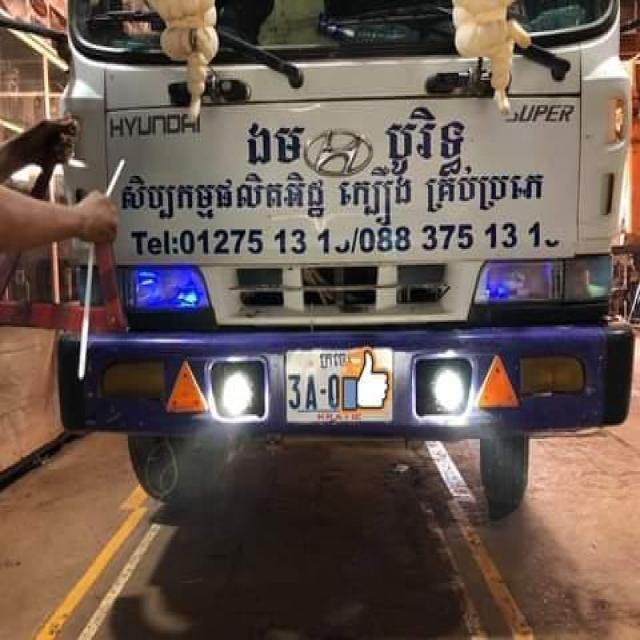Kratie: (319, 352, 352, 371)
